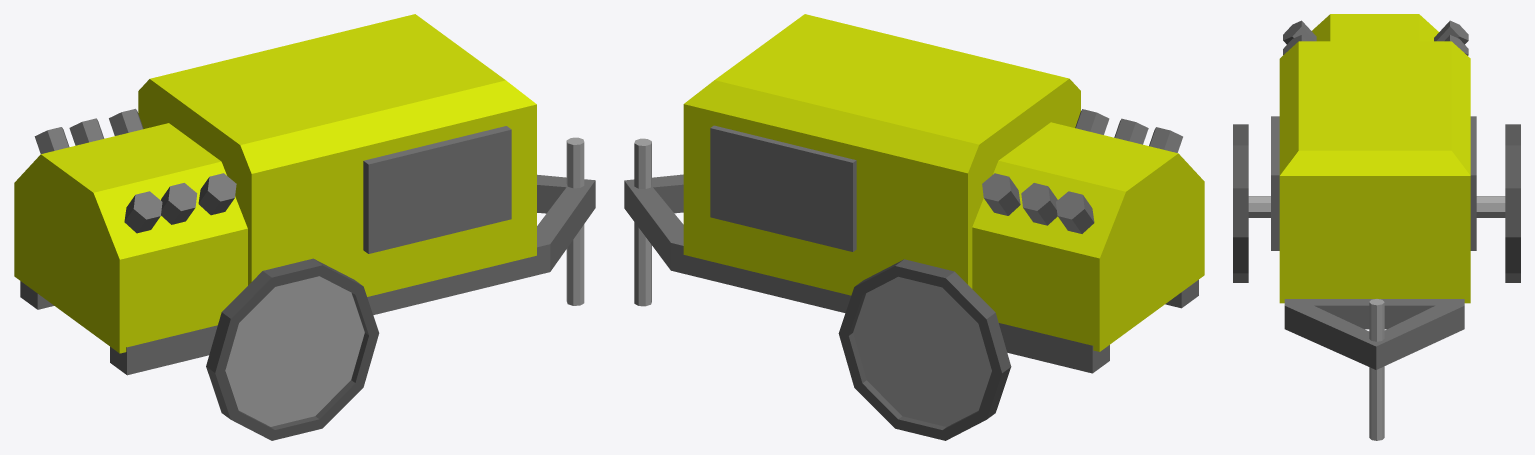
File: Generator.fbx
3 renders of one model, left to right at view 1: azimuth 30°, elevation 25°; view 2: azimuth 150°, elevation 25°; view 3: azimuth 270°, elevation 25°, orthographic. The views are drawn at different scales.
Parts seen in each view (by area): view 1: Generator; view 2: Generator; view 3: Generator.
Part boxes in pixels (bbox=[...]): Generator: bbox=[14, 14, 595, 440]; Generator: bbox=[624, 14, 1204, 440]; Generator: bbox=[1233, 14, 1520, 440].
Bounding box in the file's own units: 3.1 × 1.59 × 1.73.
